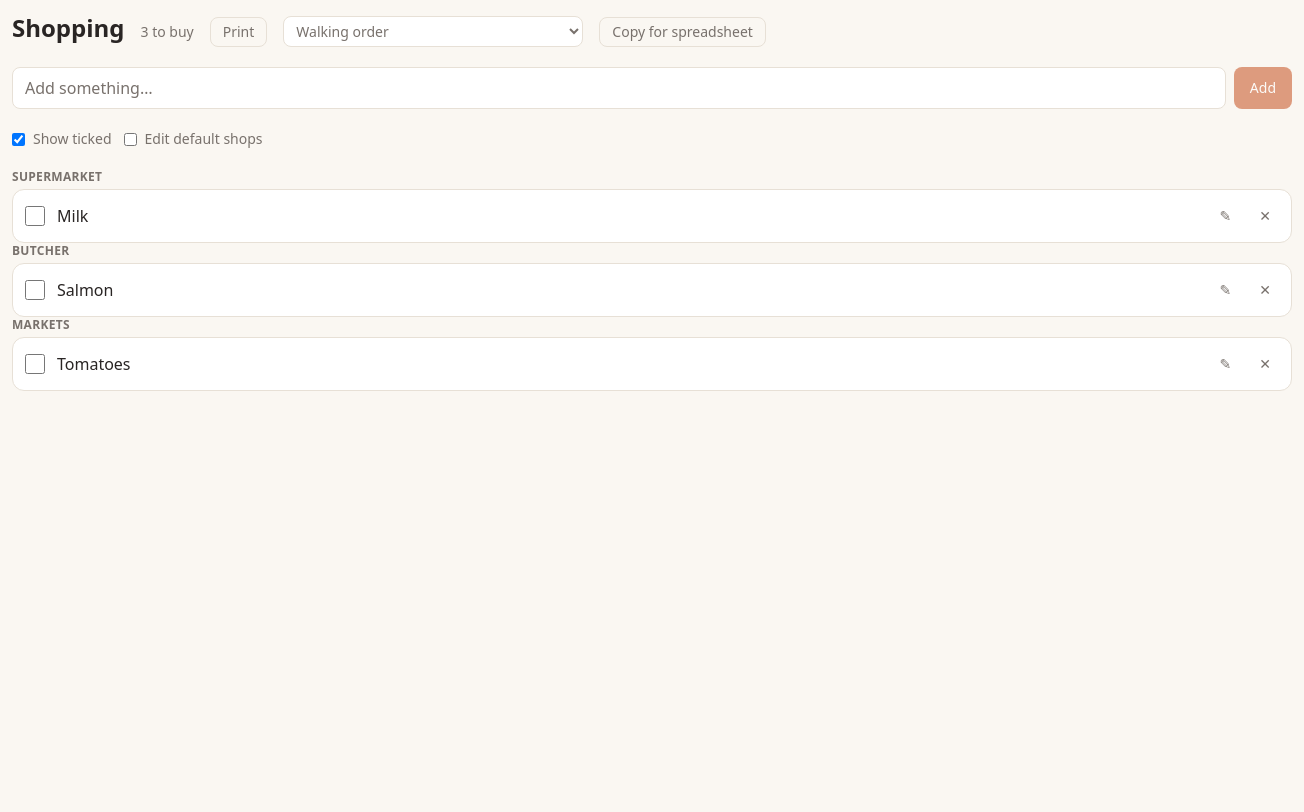
Test: ShoppingListPage print order › starts the supermarket on a new page when shops first is chosen
Expected: the text "Milk" is shown, [57,205,88,227]
Select "Shops first, supermarket on a new page" in the dropdown named "Print order" at (433, 32), box [283,16,583,47]
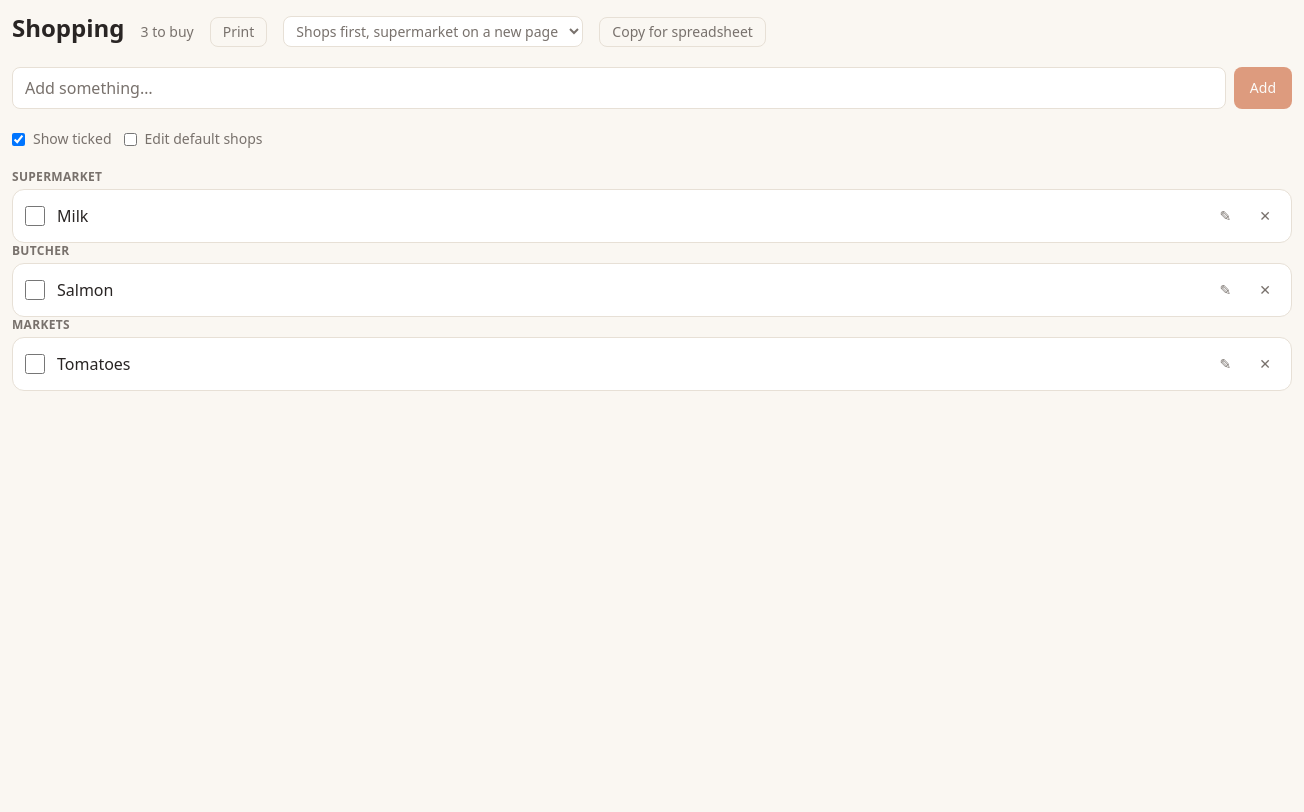
Click the button "Print" at (239, 32), box [210,17,267,47]
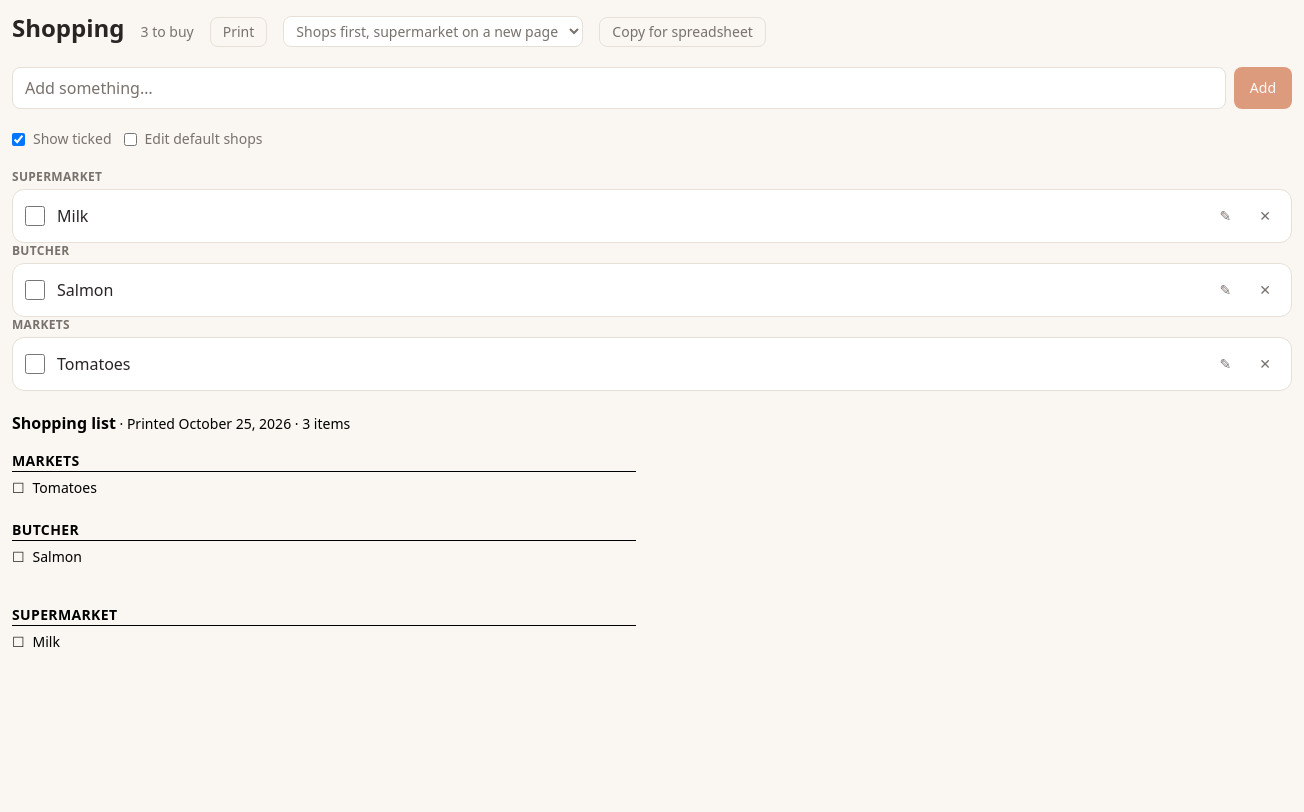
Expected: the element with class "break-before-page" is shown, [12,605,636,651]
Expected: the element with class "break-before-page" shows "Supermarket", [12,605,117,624]
Expected: the element with class "break-before-page" shows "Milk", [33,632,60,651]
